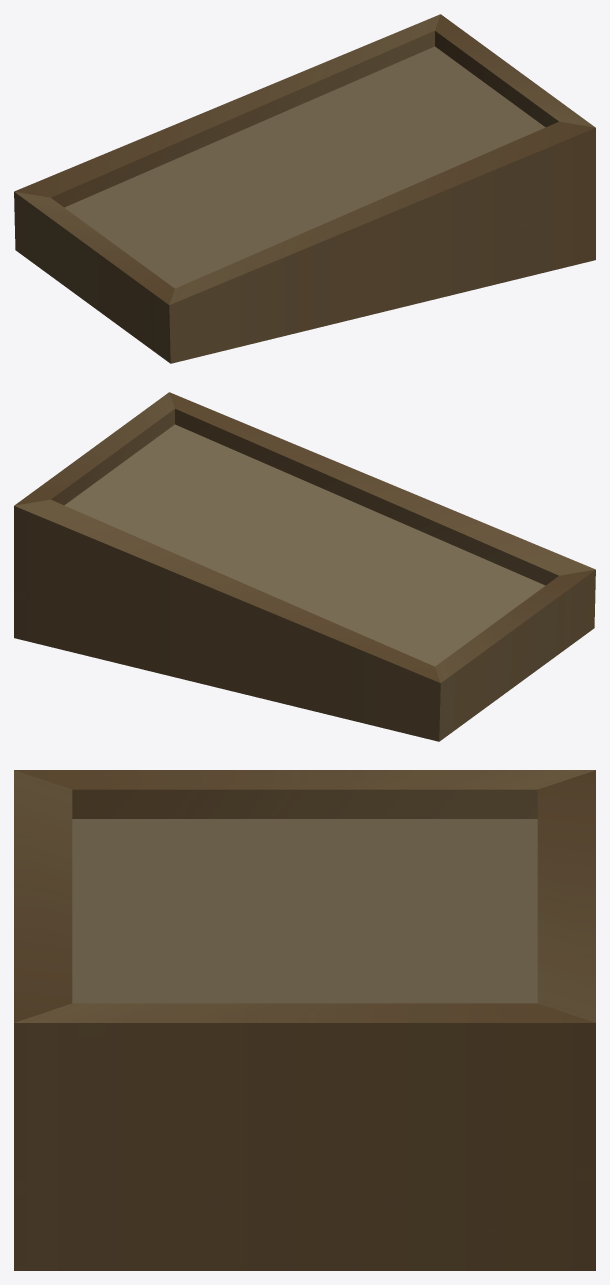
File: Crate_Food_Empty1_&_LOD1.fbx
3 renders of one model, top to bottom at view 1: azimuth 30°, elevation 25°; view 2: azimuth 150°, elevation 25°; view 3: azimuth 270°, elevation 25°, orthographic. The views are drawn at different scales.
Visible parts, largest first — view 1: polySurface9652; view 2: polySurface9652; view 3: polySurface9652.
Boxes of the visible parts, <box> form: polySurface9652: <box>14,14,595,363</box>; polySurface9652: <box>14,392,595,741</box>; polySurface9652: <box>14,770,595,1270</box>.
Size of the model in its own units: 186 by 55 by 117.
